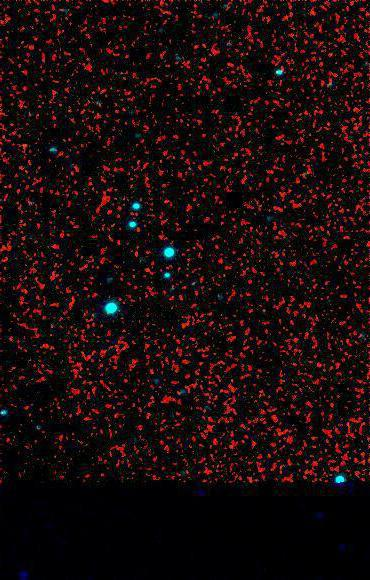star: (134, 251, 164, 281)
